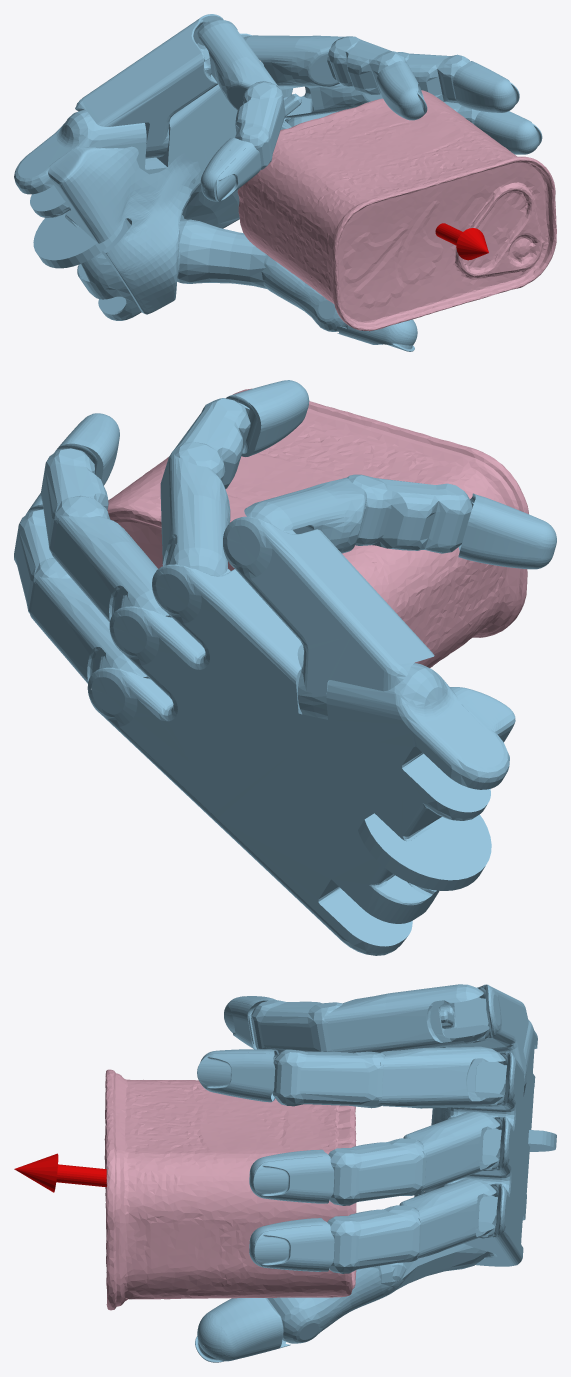
3 views of the same model, one above another, from view 1: azimuth 30°, elevation 25°; view 2: azimuth 150°, elevation 25°; view 3: azimuth 270°, elevation 25° (orthographic). The views are drawn at different scales.
Parts seen in each view (by area): view 1: world, potted_meat_can.stl; view 2: world, potted_meat_can.stl; view 3: world, potted_meat_can.stl.
Part boxes in pixels (x1,y1,x2,y2): world: (14, 14, 542, 351); potted_meat_can.stl: (237, 90, 556, 331); world: (14, 380, 556, 955); potted_meat_can.stl: (107, 388, 528, 667); world: (14, 984, 556, 1362); potted_meat_can.stl: (104, 1069, 356, 1310).
Bounding box in the file's own units: 0.1913 × 0.1224 × 0.1801.
